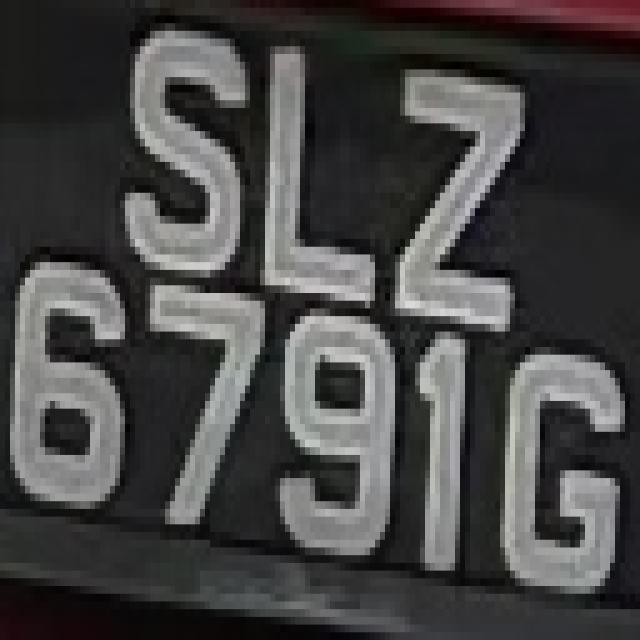1: (410, 332, 475, 594)
6: (20, 185, 135, 563)
7: (130, 262, 270, 563)
9: (260, 293, 405, 563)
G: (490, 293, 630, 625)
L: (250, 31, 390, 339)
S: (115, 8, 255, 300)
Z: (390, 46, 535, 347)
